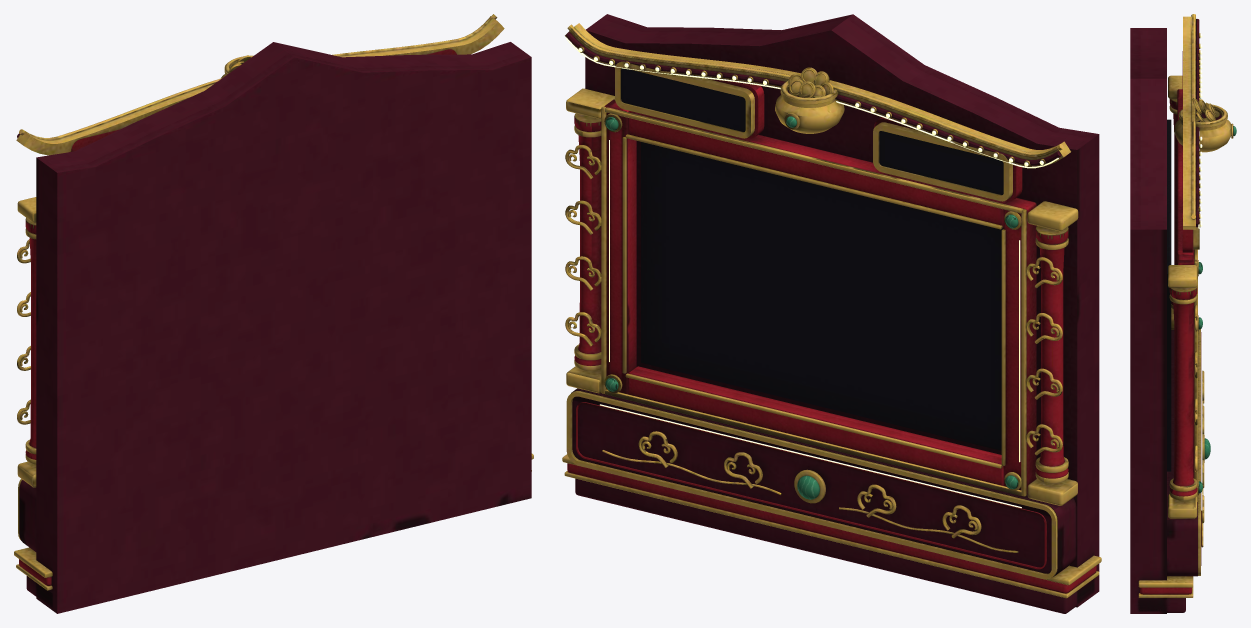
3 renders of one model, left to right at view 1: azimuth 30°, elevation 25°; view 2: azimuth 150°, elevation 25°; view 3: azimuth 270°, elevation 25°, orthographic. The views are drawn at different scales.
Parts seen in each view (by area): view 1: Deep_crimson_lacquer, Imperial_gold, Vermilion_lacquer; view 2: Dark_display_enamel, Deep_crimson_lacquer, Imperial_gold, Vermilion_lacquer, Warm_marquee_glow, Green_jade; view 3: Deep_crimson_lacquer, Imperial_gold, Vermilion_lacquer, Dark_display_enamel, Warm_marquee_glow, Green_jade.
Boxes of the visible parts, <box> form: Deep_crimson_lacquer: <box>17,42,531,613</box>; Imperial_gold: <box>14,14,533,590</box>; Vermilion_lacquer: <box>19,49,456,585</box>; Dark_display_enamel: <box>621,68,1003,450</box>; Deep_crimson_lacquer: <box>565,14,1099,613</box>; Imperial_gold: <box>562,23,1101,598</box>; Vermilion_lacquer: <box>567,78,1096,593</box>; Warm_marquee_glow: <box>566,38,1058,508</box>; Green_jade: <box>605,116,1018,499</box>; Deep_crimson_lacquer: <box>1130,19,1221,613</box>; Imperial_gold: <box>1138,14,1233,597</box>; Vermilion_lacquer: <box>1140,51,1201,594</box>; Dark_display_enamel: <box>1167,119,1171,471</box>; Warm_marquee_glow: <box>1198,23,1202,510</box>; Green_jade: <box>1198,98,1236,493</box>.
Bounding box in the file's own units: 9.24 × 9 × 2.
Materials: 6 (5 with a texture image).
